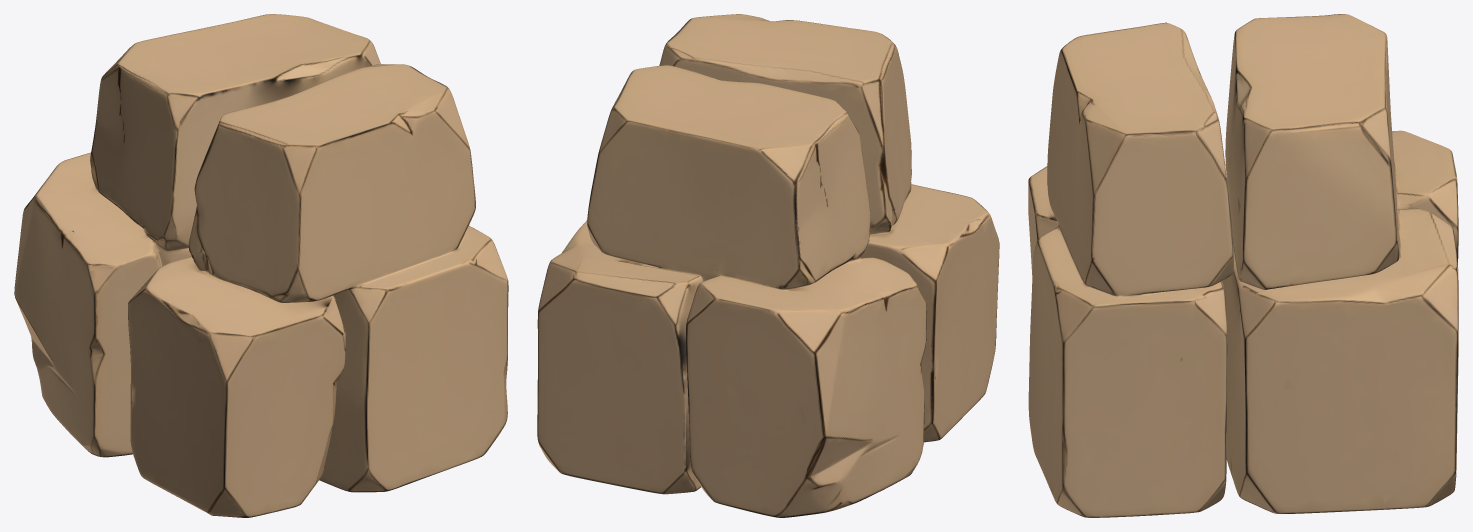
Rendered from prop_cliff_rock.glb.
3 renders of one model, left to right at view 1: azimuth 30°, elevation 25°; view 2: azimuth 150°, elevation 25°; view 3: azimuth 270°, elevation 25°, orthographic. The views are drawn at different scales.
Parts seen in each view (by area): view 1: material; view 2: material; view 3: material.
Part boxes in pixels (x1,y1,x2,y2): material: (14,14,508,517); material: (537,14,999,517); material: (1028,14,1458,517).
Bounding box in the file's own units: 0.7492 × 0.772 × 0.7991.
Materials: 1 (1 with a texture image).
